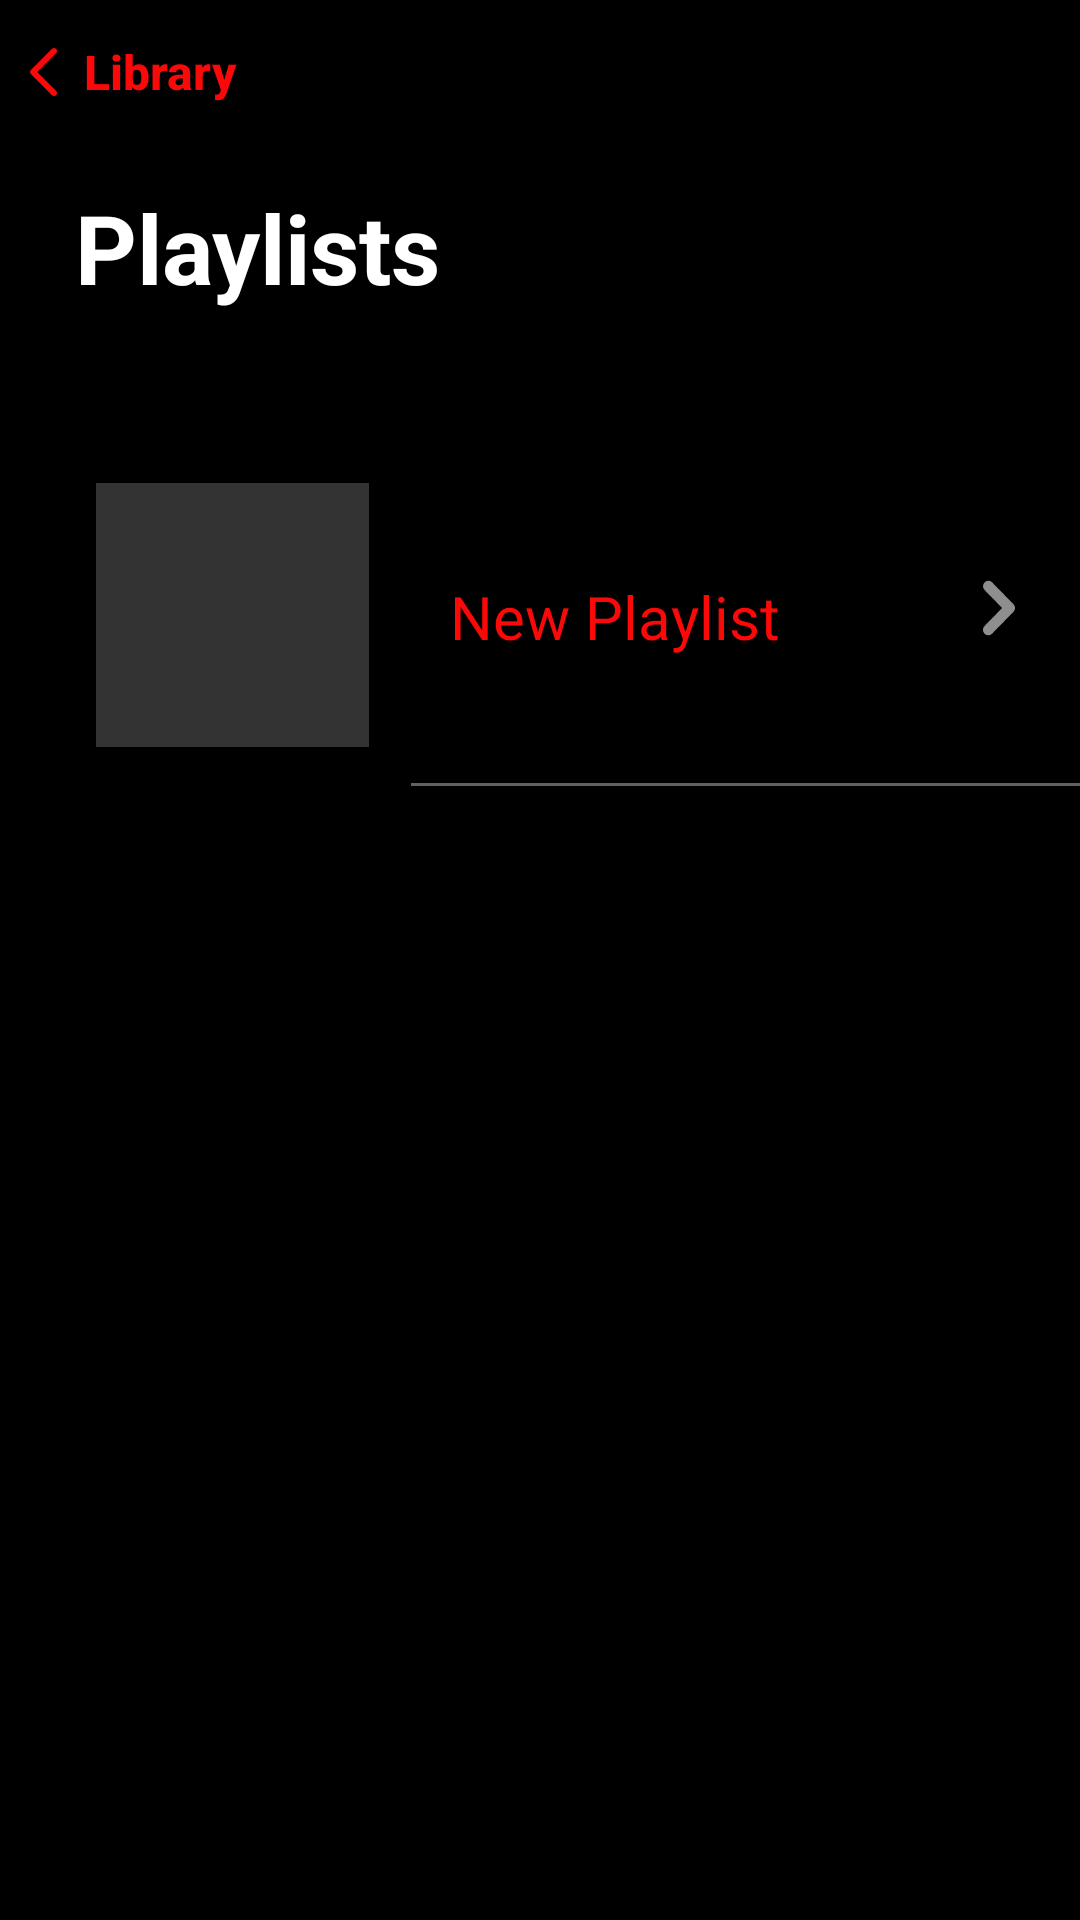

Icons on this 1080px x 1920px Android screen, each with the point to tap as (x,y):
arrow: (999,608)
